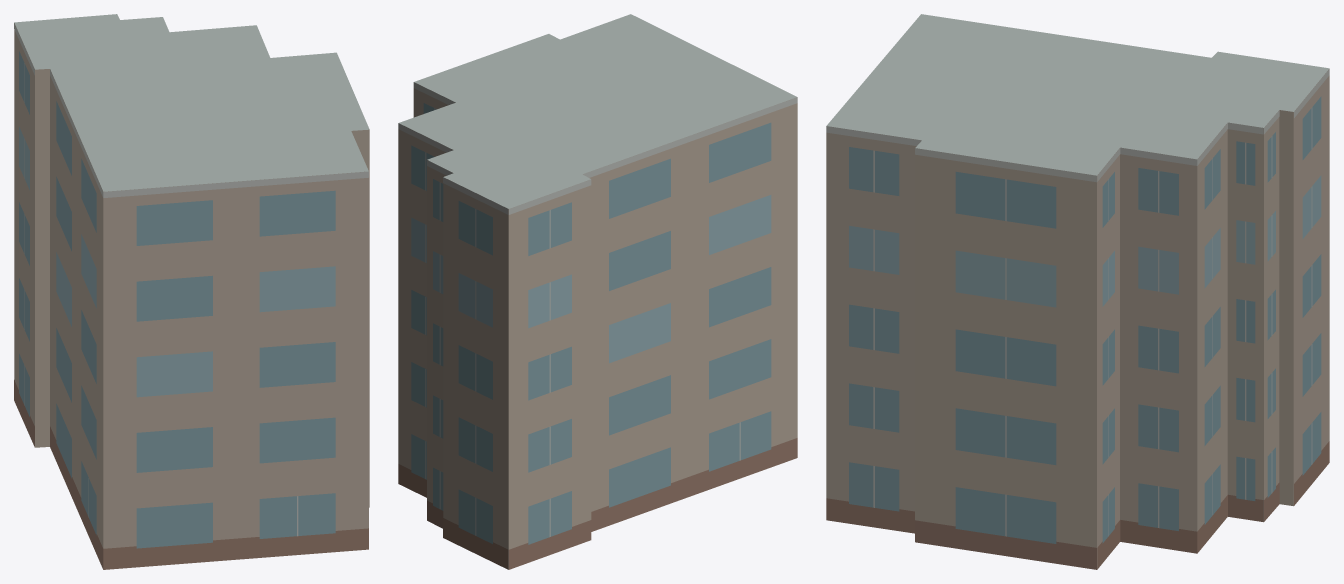
Rendered from survey-upis-32702908.glb.
The picture shows the model from 3 angles, left to right: view 1: azimuth 30°, elevation 25°; view 2: azimuth 150°, elevation 25°; view 3: azimuth 270°, elevation 25°; orthographic projection. The views are drawn at different scales.
Parts seen in each view (by area): view 1: survey-upis-32702908.tmp; view 2: survey-upis-32702908.tmp; view 3: survey-upis-32702908.tmp.
Part boxes in pixels (x1,y1,x2,y2): survey-upis-32702908.tmp: [14, 14, 369, 569]; survey-upis-32702908.tmp: [398, 14, 797, 569]; survey-upis-32702908.tmp: [826, 14, 1329, 569].
Size of the model in its own units: 12.76 by 14.5 by 16.79.
